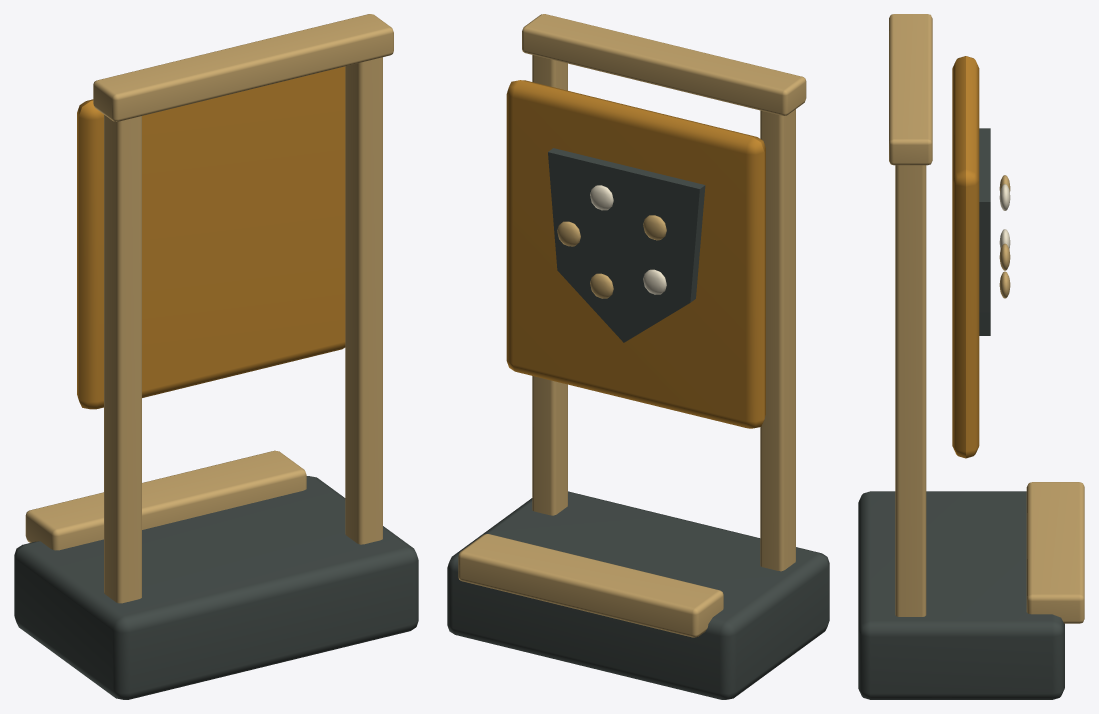
The model's file is fanstand.amber-pier.glb.
3 renders of one model, left to right at view 1: azimuth 30°, elevation 25°; view 2: azimuth 150°, elevation 25°; view 3: azimuth 270°, elevation 25°, orthographic. The views are drawn at different scales.
Parts seen in each view (by area): view 1: Beveled pedestal; view 2: Beveled pedestal; view 3: Beveled pedestal.
Part boxes in pixels (<box>): Beveled pedestal: <box>14,14,418,699</box>; Beveled pedestal: <box>447,14,829,699</box>; Beveled pedestal: <box>858,14,1084,699</box>.
Size of the model in its own units: 0.91 by 1.7 by 0.625.
